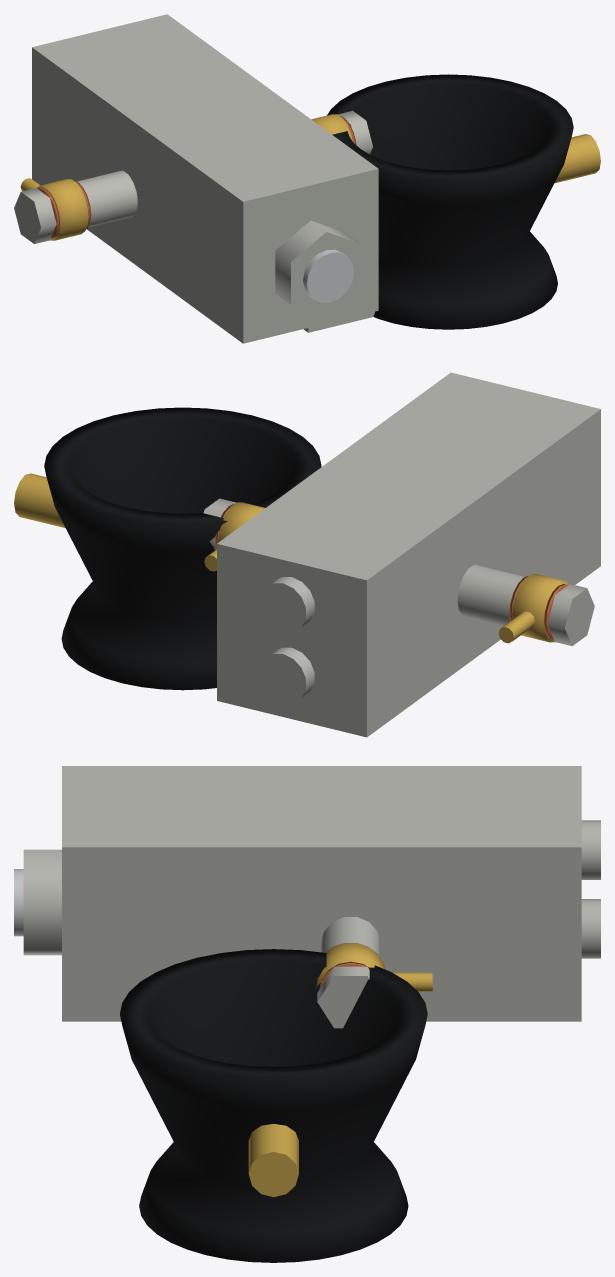
Rendered from mixture-control-unit.glb.
3 views of the same model, one above another, from view 1: azimuth 30°, elevation 25°; view 2: azimuth 150°, elevation 25°; view 3: azimuth 270°, elevation 25° (orthographic). The views are drawn at different scales.
Visible parts, largest first — view 1: mixture-control-unit:zincPlate, mixture-control-unit:blackPaint, mixture-control-unit:brass, mixture-control-unit:machinedAlu, mixture-control-unit:copper; view 2: mixture-control-unit:zincPlate, mixture-control-unit:blackPaint, mixture-control-unit:brass, mixture-control-unit:copper; view 3: mixture-control-unit:zincPlate, mixture-control-unit:blackPaint, mixture-control-unit:brass, mixture-control-unit:machinedAlu.
Part boxes in pixels (x1,y1,x2,y2): mixture-control-unit:zincPlate: (14, 14, 378, 343); mixture-control-unit:blackPaint: (327, 74, 573, 329); mixture-control-unit:brass: (20, 114, 600, 240); mixture-control-unit:machinedAlu: (303, 249, 353, 302); mixture-control-unit:copper: (38, 115, 356, 238); mixture-control-unit:zincPlate: (203, 372, 600, 737); mixture-control-unit:blackPaint: (44, 407, 321, 690); mixture-control-unit:brass: (14, 473, 569, 643); mixture-control-unit:copper: (215, 504, 567, 639); mixture-control-unit:zincPlate: (23, 766, 600, 1028); mixture-control-unit:blackPaint: (120, 949, 427, 1262); mixture-control-unit:brass: (248, 943, 432, 1197); mixture-control-unit:machinedAlu: (14, 869, 23, 936).
Size of the model in its own units: 157 by 60.8 by 122.
